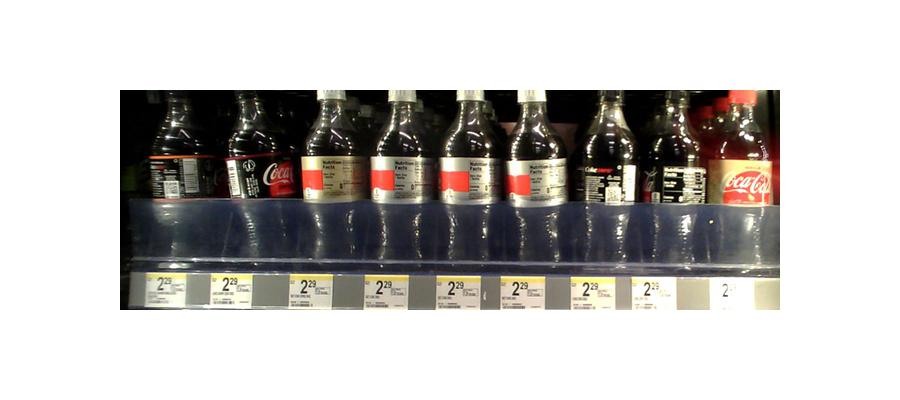bottle: (299, 84, 369, 264), (146, 95, 216, 269), (227, 88, 294, 269), (708, 89, 775, 267), (440, 87, 501, 268), (577, 87, 637, 270), (645, 87, 705, 269), (509, 84, 568, 269), (372, 88, 431, 267)
